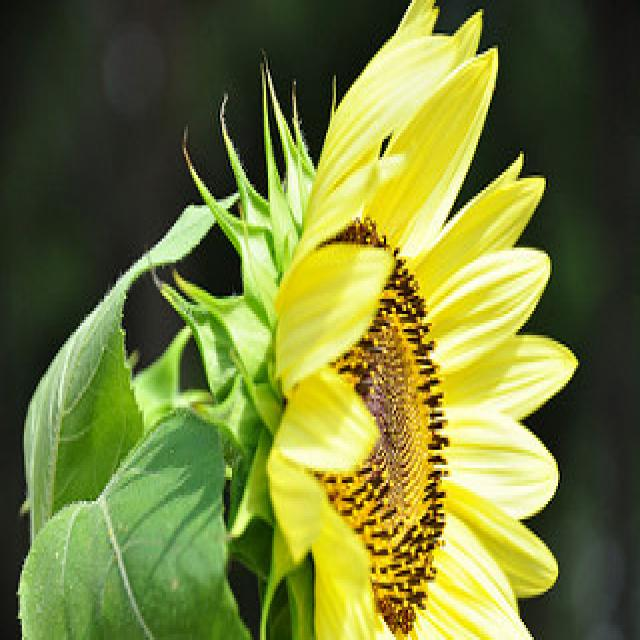sunflower: (278, 0, 594, 640)
